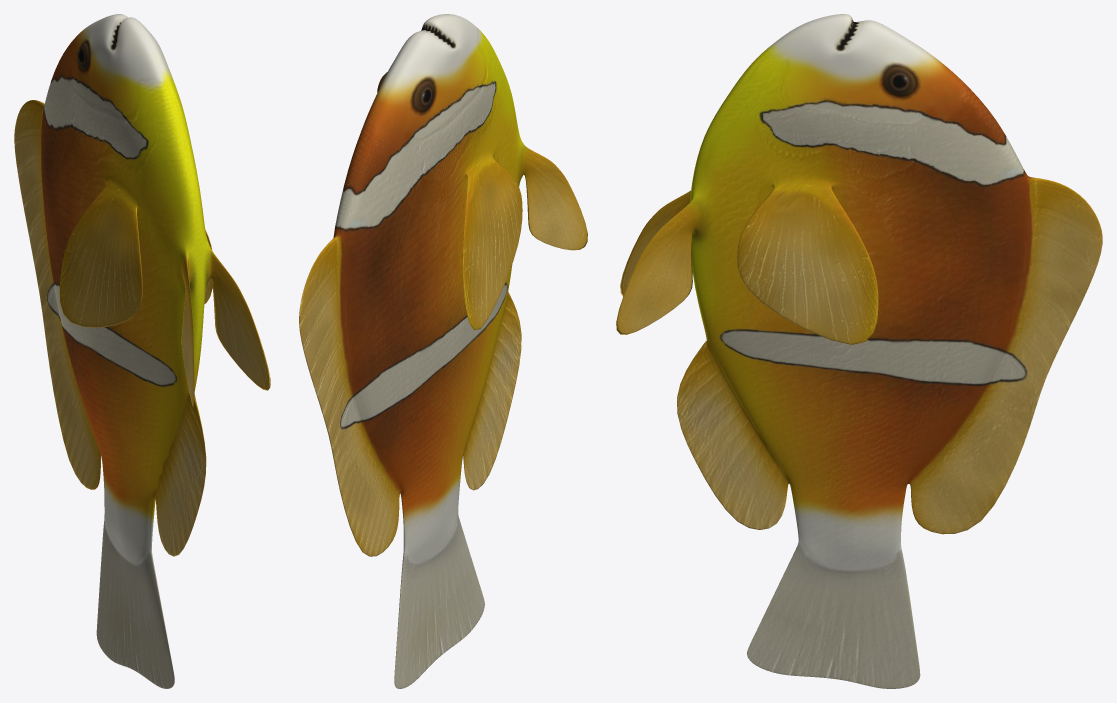
Rendered from fish.glb.
The picture shows the model from 3 angles, left to right: view 1: azimuth 30°, elevation 25°; view 2: azimuth 150°, elevation 25°; view 3: azimuth 270°, elevation 25°; orthographic projection. The views are drawn at different scales.
Parts seen in each view (by area): view 1: 12265_Fish_v1_L2; view 2: 12265_Fish_v1_L2; view 3: 12265_Fish_v1_L2.
Boxes of the visible parts, box(x1,y1,x2,y2) form: 12265_Fish_v1_L2: box(14, 14, 270, 688); 12265_Fish_v1_L2: box(299, 14, 587, 688); 12265_Fish_v1_L2: box(616, 14, 1102, 688).
Bounding box in the file's own units: 9.69 × 55.08 × 36.09.
1 material, 1 textured.
